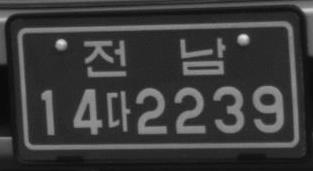1: (36, 88, 61, 135)
2: (172, 85, 207, 135), (134, 86, 168, 135)
3: (211, 84, 246, 135)
4: (71, 87, 103, 136)
9: (251, 83, 285, 135)
다: (104, 89, 131, 133)
전남_D: (81, 35, 227, 79)
